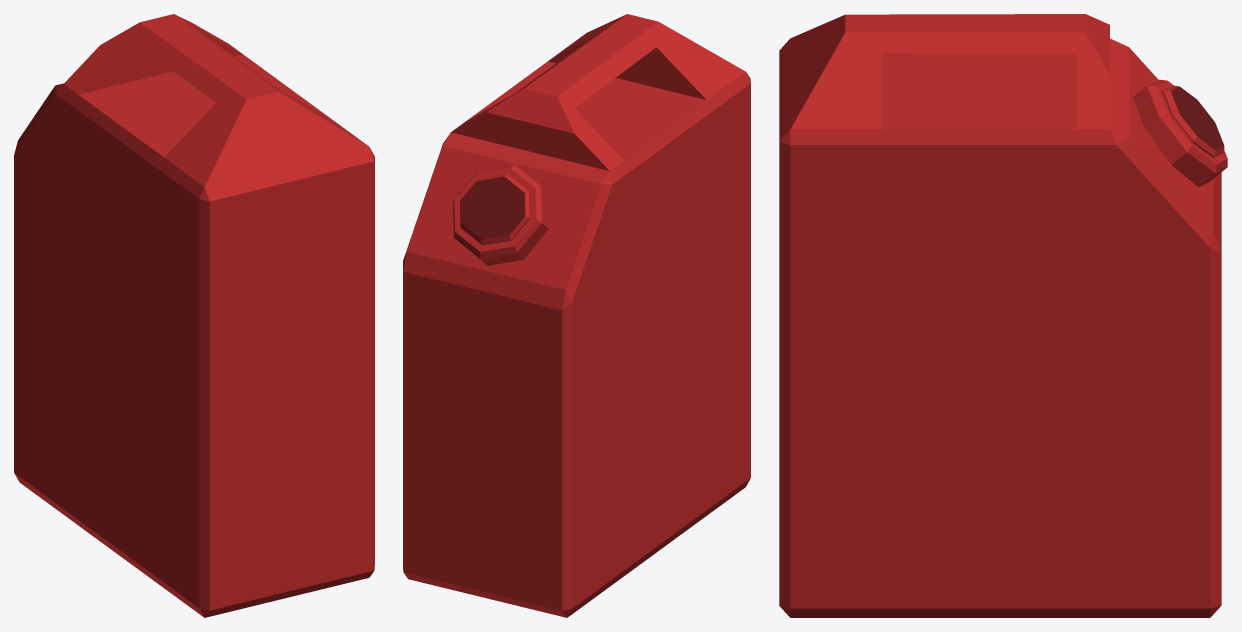
Rendered from gasolina.fbx.
3 views of the same model, side by side, from view 1: azimuth 30°, elevation 25°; view 2: azimuth 150°, elevation 25°; view 3: azimuth 270°, elevation 25° (orthographic). The views are drawn at different scales.
Parts seen in each view (by area): view 1: Cube; view 2: Cube; view 3: Cube.
Boxes of the visible parts, x1=… form: Cube: x1=14, y1=14, x2=374, y2=617; Cube: x1=403, y1=14, x2=750, y2=617; Cube: x1=779, y1=14, x2=1227, y2=617.
Bounding box in the file's own units: 105 × 278 × 206.
